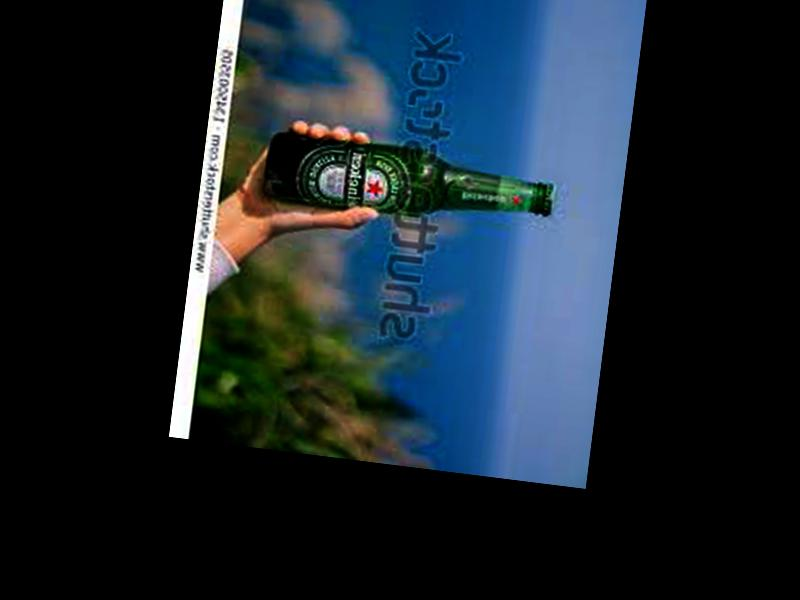Beer: (265, 131, 557, 237)
